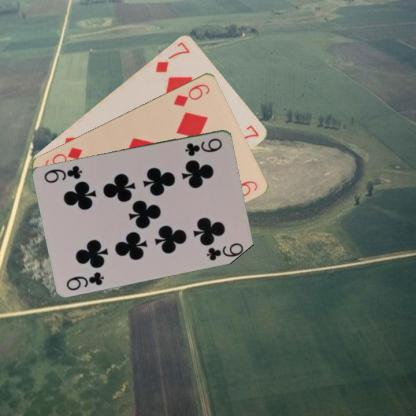6d: (171, 81, 211, 107)
7d: (153, 39, 191, 74)
9c: (64, 269, 106, 292), (182, 135, 224, 157)
